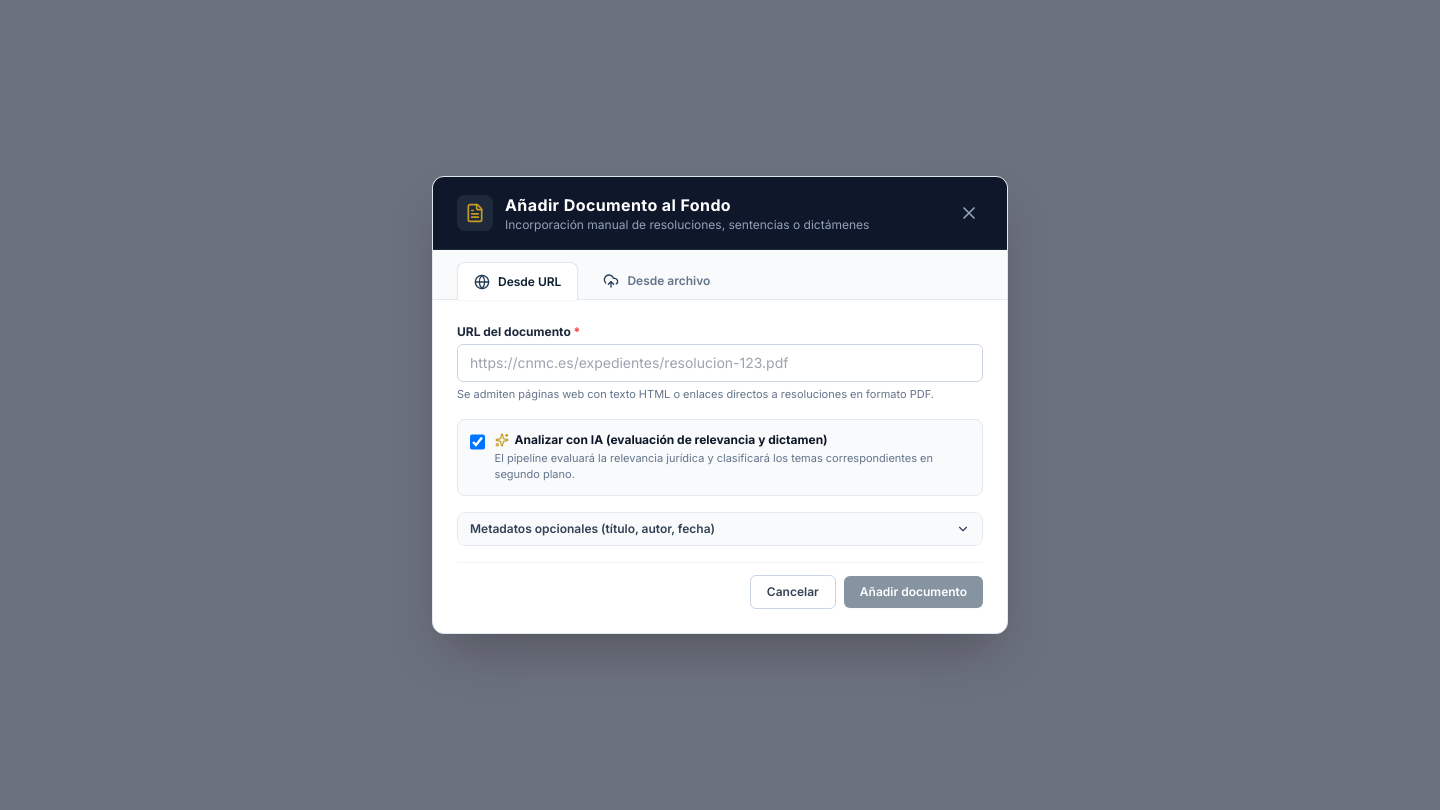
Manual Document Ingestion (Bloque 11C Frontend) › 14. Estado de loading muestra "Procesando..." y deshabilita botones
The image size is (1440, 810).
Type "https://cnmc.es/doc.pdf" into the field labelled "URL del documento *".
click(720, 363); type("https://cnmc.es/doc.pdf")  # box [457,344,983,382]
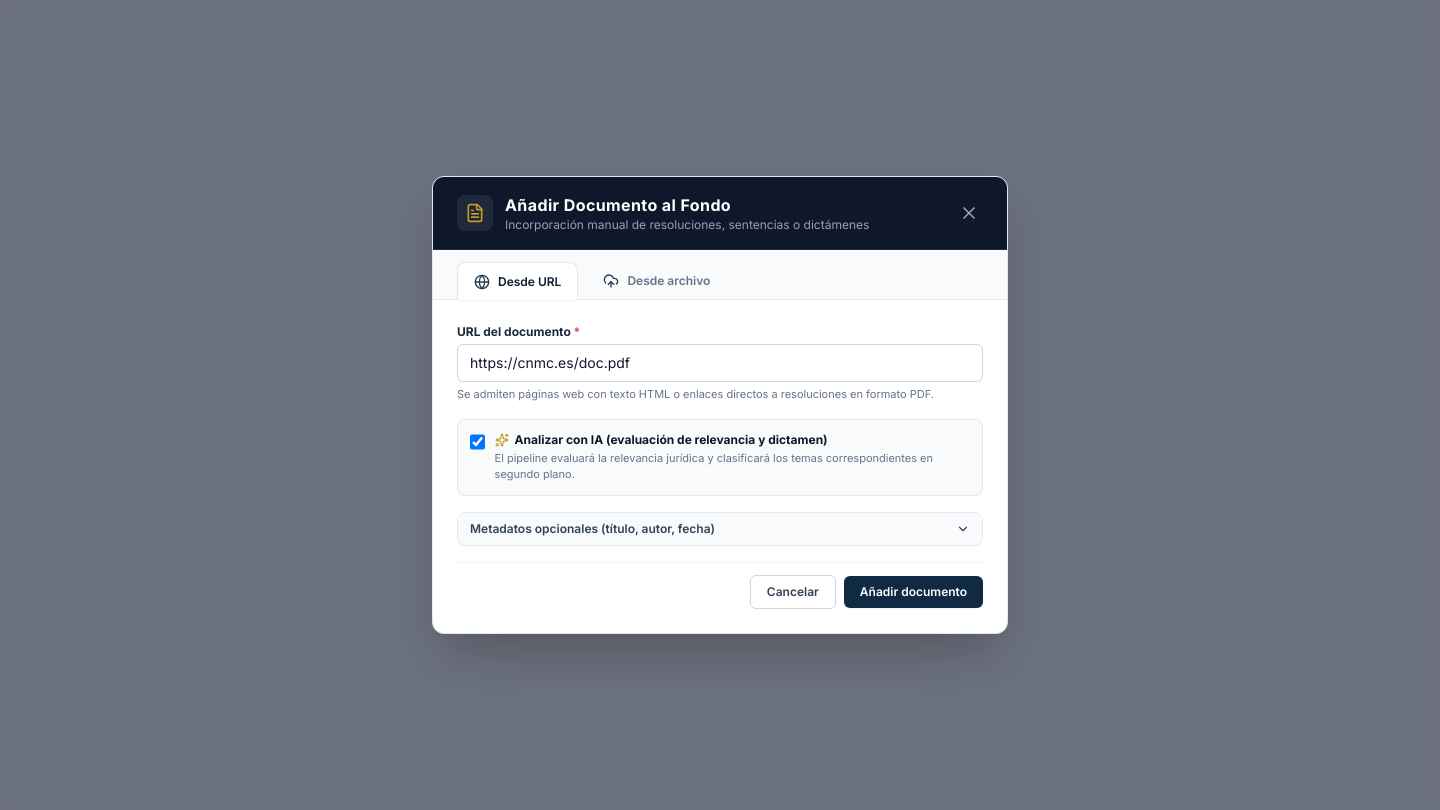
Click the button "Añadir documento".
click(913, 592)  # box [844,576,983,608]
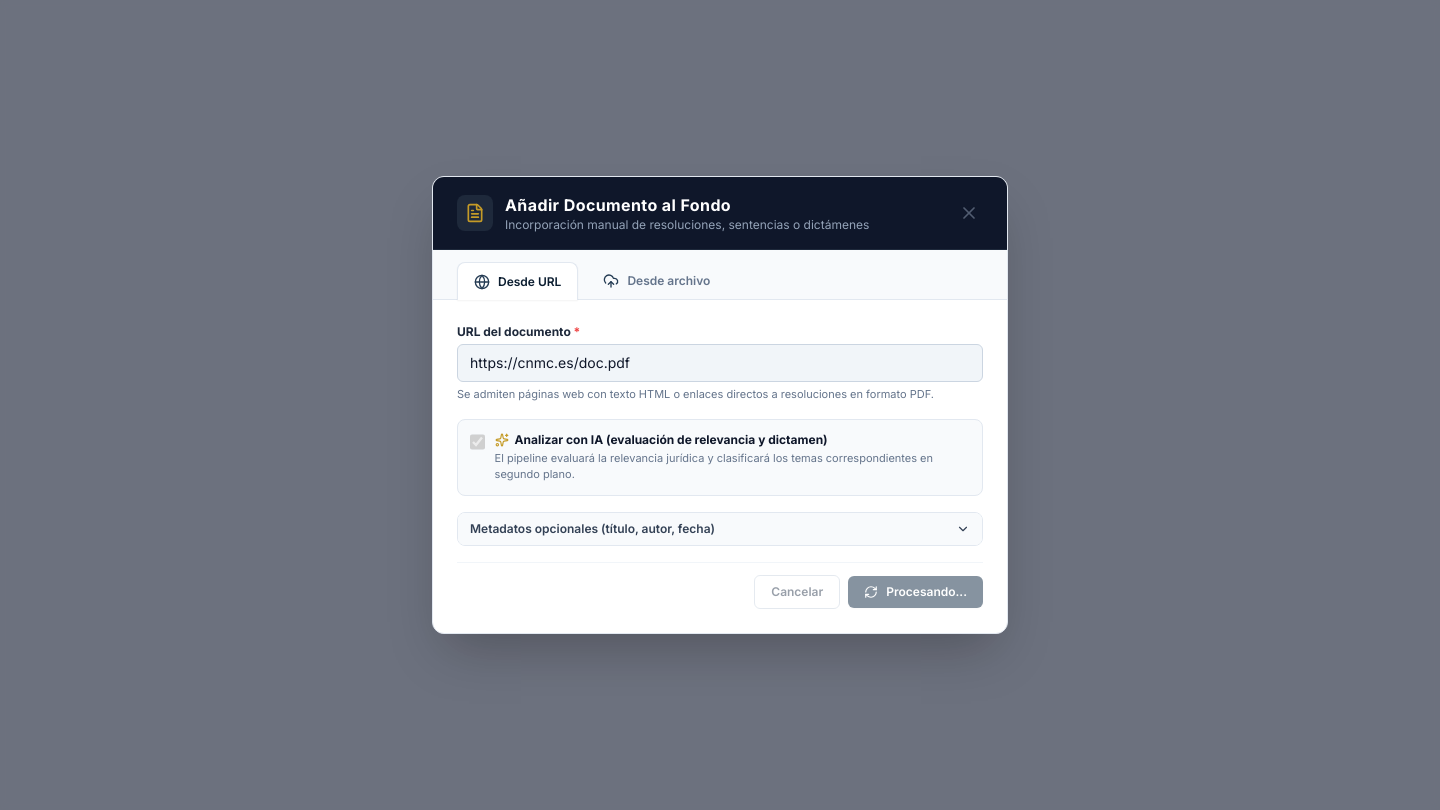
Expected: the text "Procesando..." is shown, [886,584,967,600]
Expected: the button "Procesando..." is disabled, [848,576,983,608]
